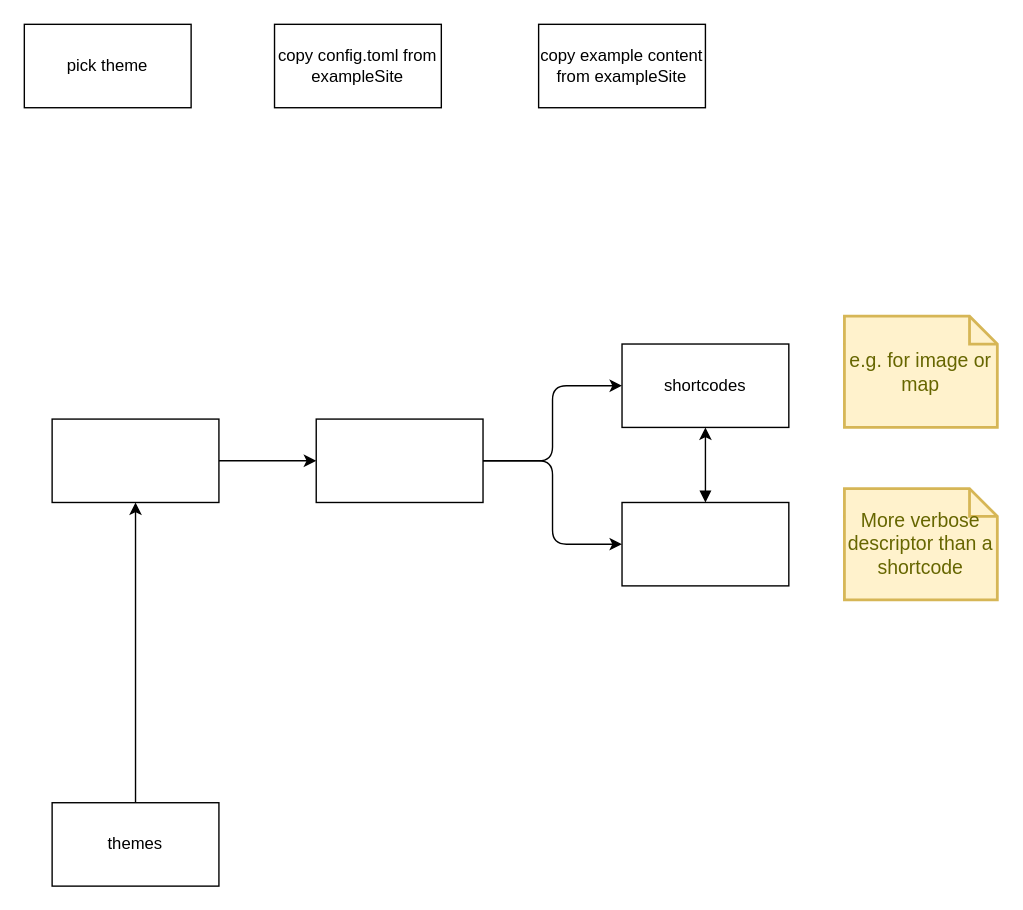
Some shapes in this 1023 by 910 pixel diagram are drawn without their labels. Here are the shapes that lost their labels. From the top down, the centre of each, then its label:
At (x=135, y=460): "layouts folder".
At (x=399, y=460): "template files (in html)".
At (x=705, y=543): "blocks".
